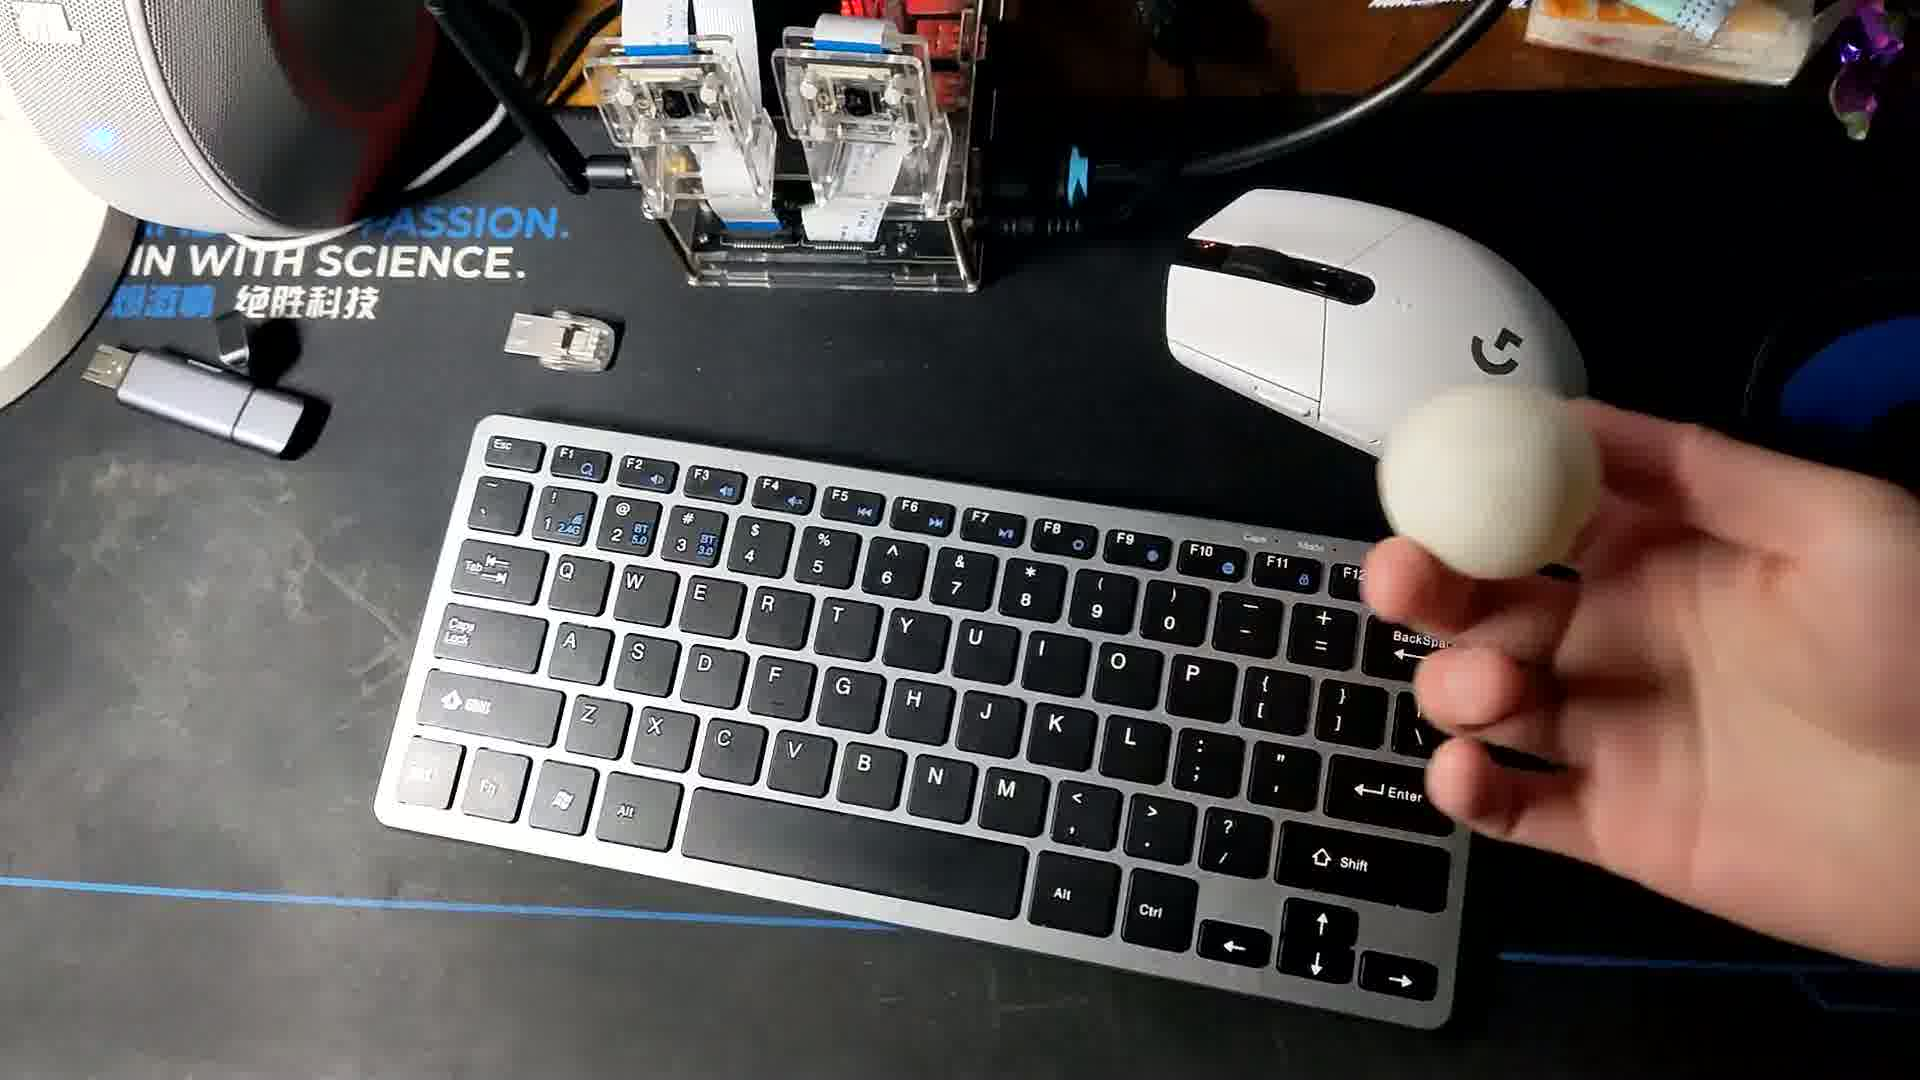Ball: (1379, 389, 1604, 583)
